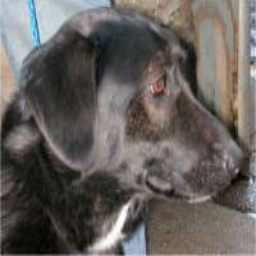dog: (4, 8, 240, 256)
